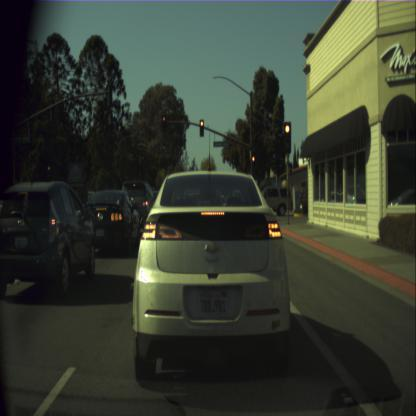Red: (284, 122, 291, 152), (199, 119, 204, 138), (47, 164, 51, 179)
RedLeft: (162, 112, 166, 130)
Yellow: (251, 148, 255, 166)
